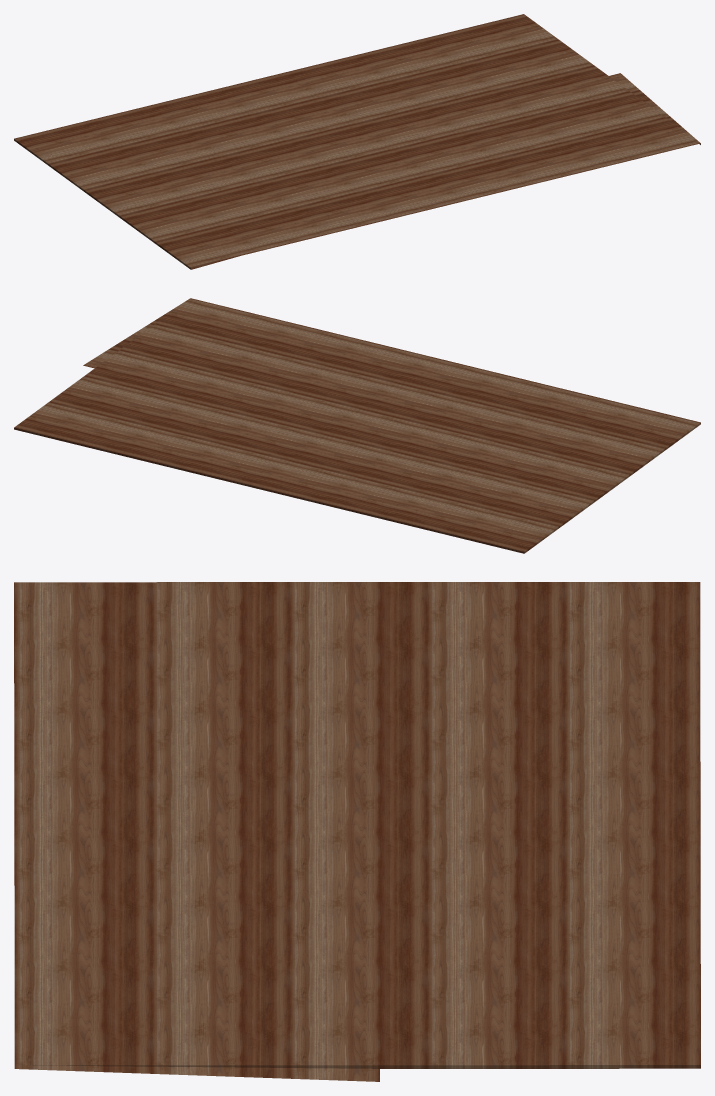
The model's file is suelo.fbx.
3 renders of one model, top to bottom at view 1: azimuth 30°, elevation 25°; view 2: azimuth 150°, elevation 25°; view 3: azimuth 270°, elevation 25°, orthographic. The views are drawn at different scales.
Visible parts, largest first — view 1: suelo_entrada; view 2: suelo_entrada; view 3: suelo_entrada.
Part boxes in pixels (x1=…): suelo_entrada: x1=14, y1=14, x2=700, y2=269; suelo_entrada: x1=14, y1=298, x2=700, y2=553; suelo_entrada: x1=14, y1=582, x2=700, y2=1081.
Size of the model in its own units: 1641 by 5.68 by 960.
